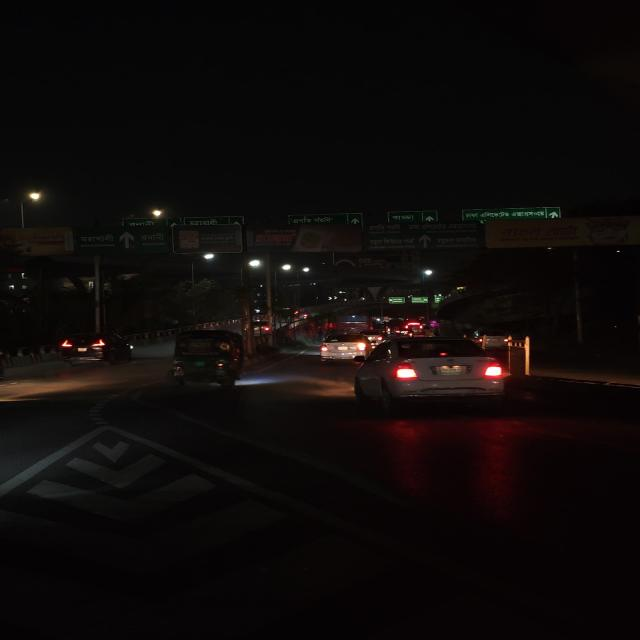car: (354, 335, 508, 410), (56, 331, 134, 366), (316, 331, 369, 363)
cng: (162, 327, 248, 391)
